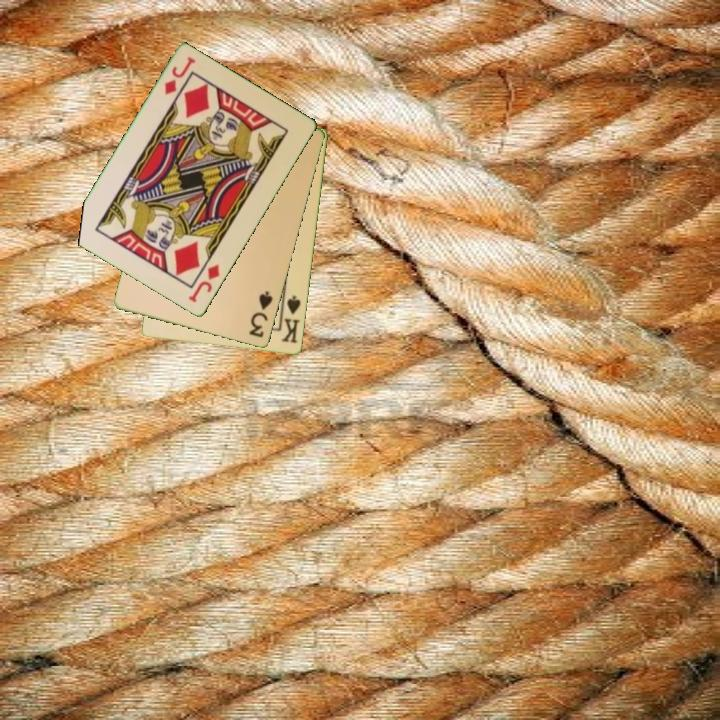3s: (246, 288, 276, 341)
Jd: (185, 261, 223, 306), (161, 53, 199, 98)
Ks: (278, 291, 304, 346)
